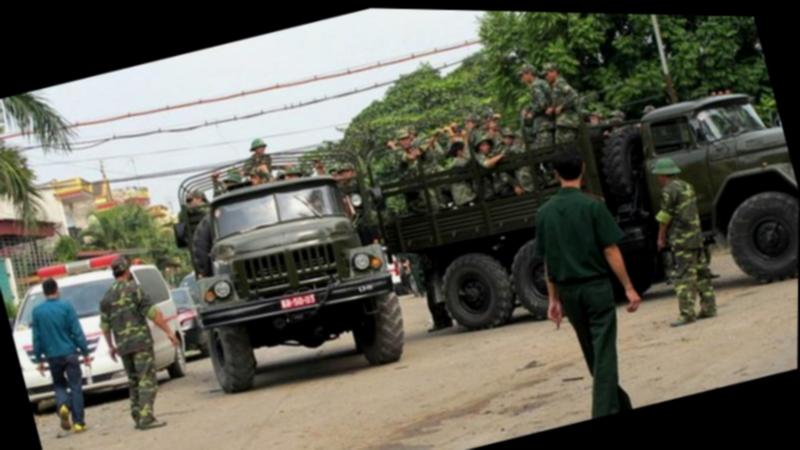License_Plate: (278, 288, 318, 309)
